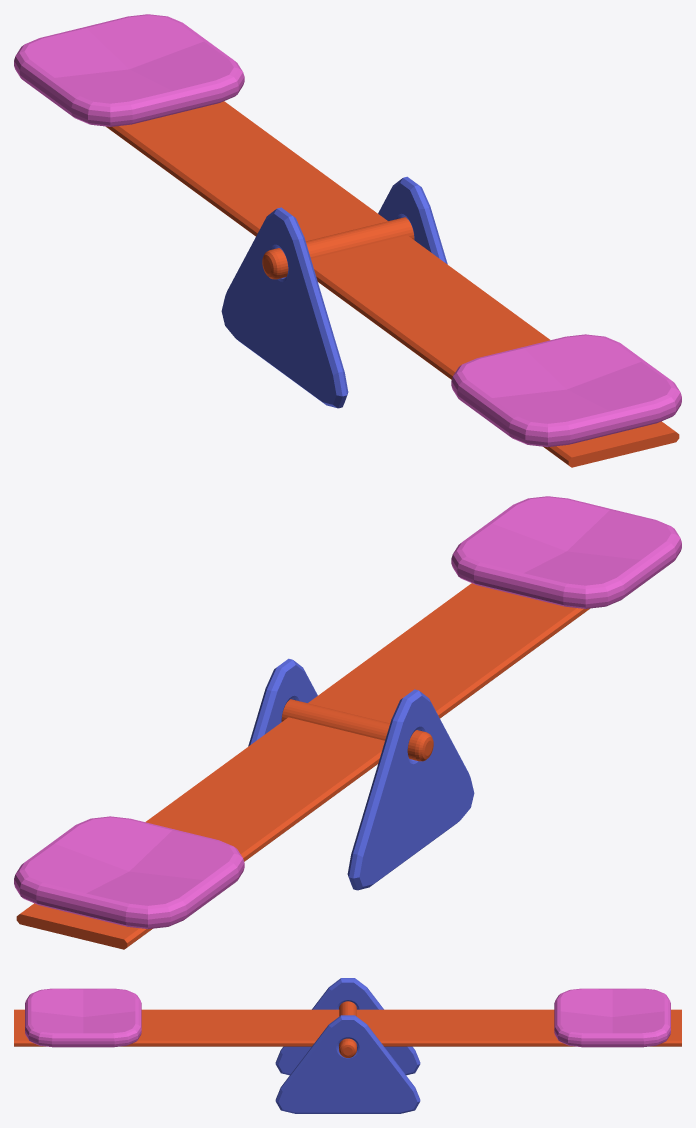
File: seasaw.fbx
3 renders of one model, top to bottom at view 1: azimuth 30°, elevation 25°; view 2: azimuth 150°, elevation 25°; view 3: azimuth 270°, elevation 25°, orthographic. The views are drawn at different scales.
Parts seen in each view (by area): view 1: Cube.023, Cube.025, Cube.026; view 2: Cube.023, Cube.025, Cube.026; view 3: Cube.023, Cube.025, Cube.026.
Boxes of the visible parts, x1,y1,x2,y2 form: Cube.023: [14, 14, 681, 467]; Cube.025: [221, 176, 447, 408]; Cube.026: [262, 217, 414, 279]; Cube.023: [14, 496, 681, 949]; Cube.025: [248, 658, 474, 890]; Cube.026: [281, 699, 433, 761]; Cube.023: [14, 988, 681, 1047]; Cube.025: [275, 978, 420, 1113]; Cube.026: [339, 1001, 356, 1057].
Bounding box in the file's own units: 118 × 109 × 678.
